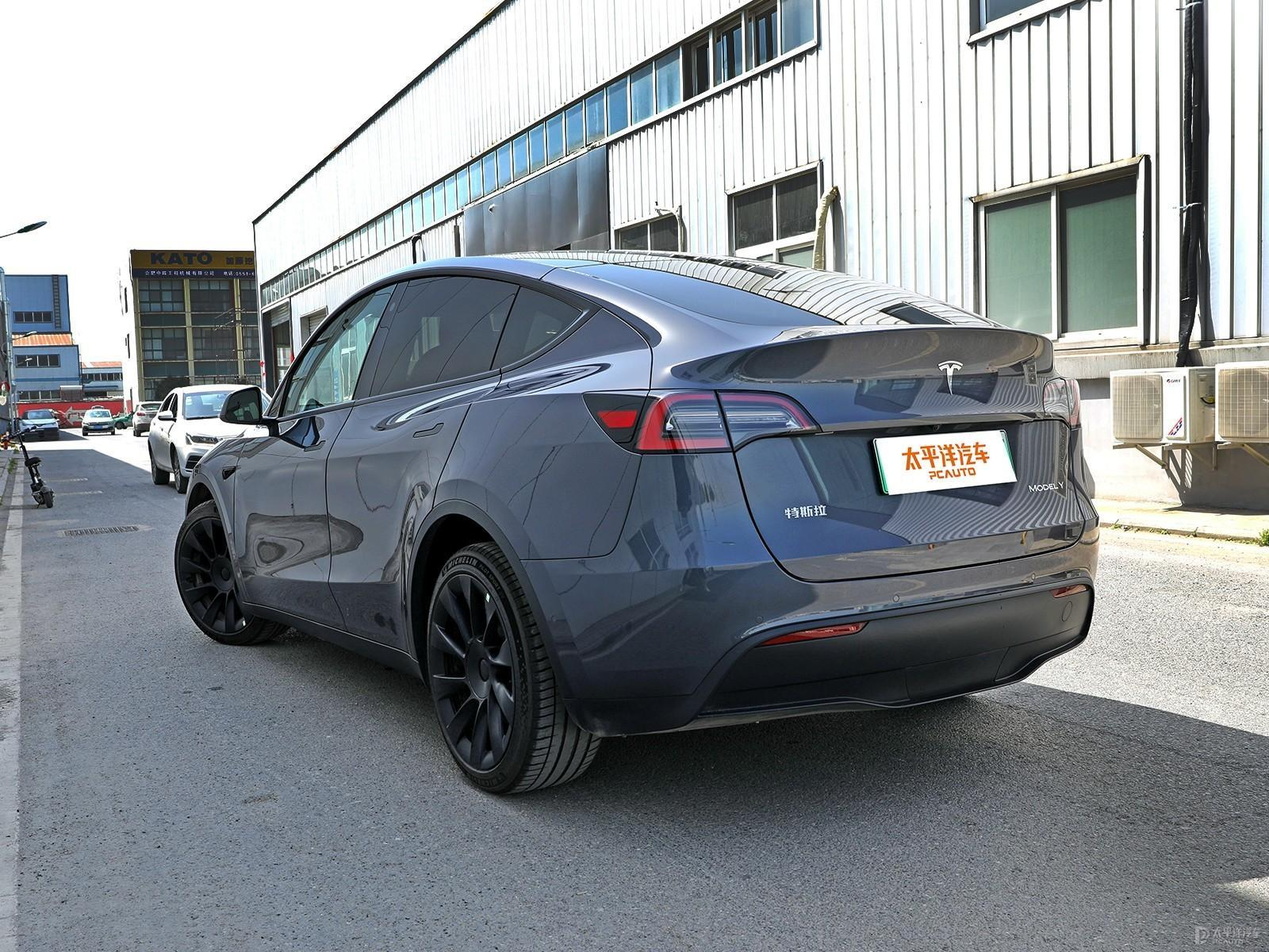Tesla: (938, 359, 963, 397)
